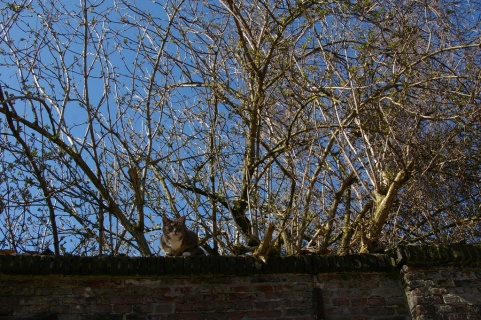Cat: (158, 214, 206, 257)
